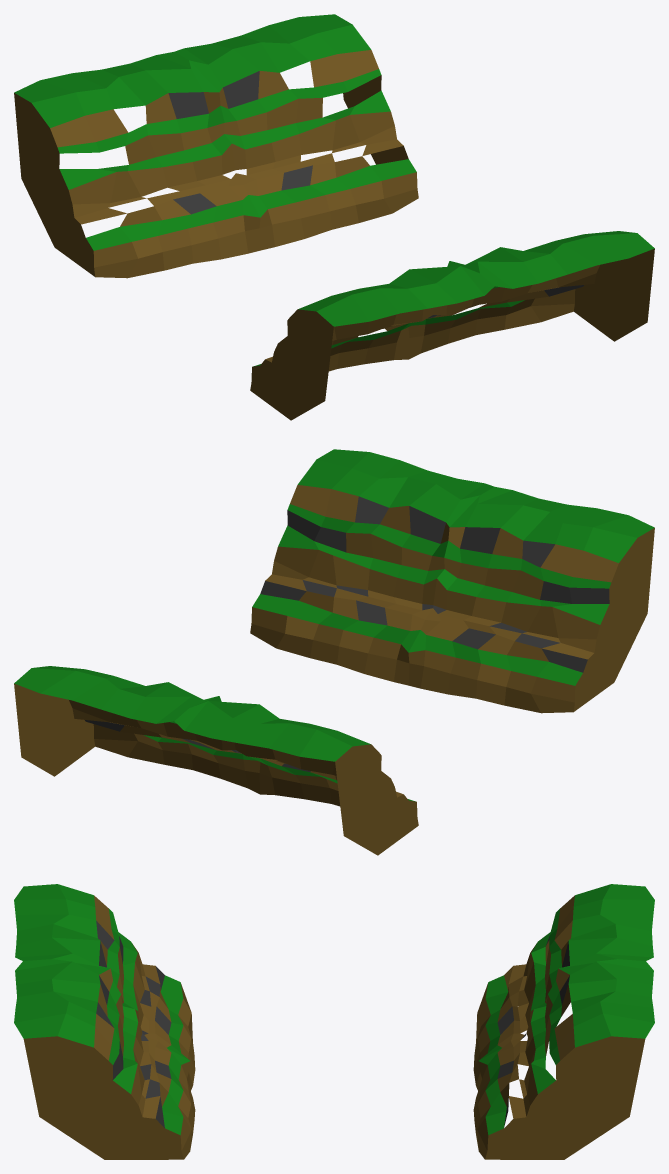
Rendered from side-1.fbx.
3 views of the same model, one above another, from view 1: azimuth 30°, elevation 25°; view 2: azimuth 150°, elevation 25°; view 3: azimuth 270°, elevation 25° (orthographic). The views are drawn at different scales.
Parts seen in each view (by area): view 1: greenravine5.001; view 2: greenravine5.001; view 3: greenravine5.001.
Boxes of the visible parts, x1,y1,x2,y2 form: greenravine5.001: (14, 14, 654, 420); greenravine5.001: (14, 449, 654, 855); greenravine5.001: (14, 884, 654, 1159).
Bounding box in the file's own units: 1316 × 548 × 2323.
